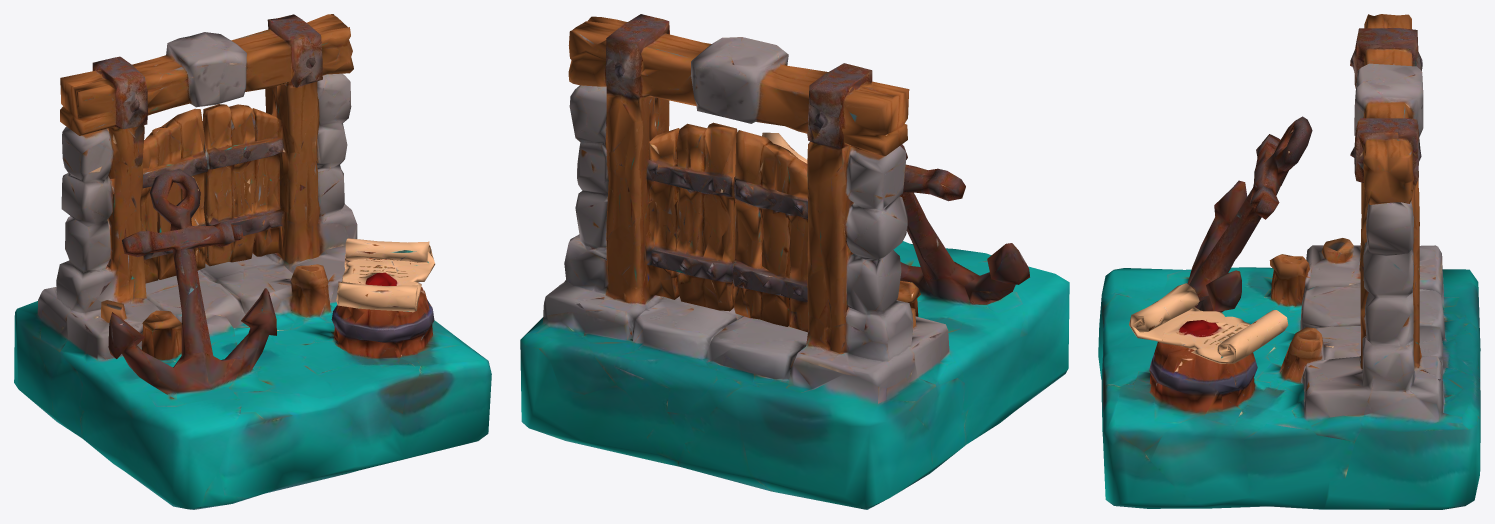
The model's file is m_port.glb.
3 renders of one model, left to right at view 1: azimuth 30°, elevation 25°; view 2: azimuth 150°, elevation 25°; view 3: azimuth 270°, elevation 25°, orthographic. The views are drawn at different scales.
Bounding box in the file's own units: 0.9982 × 0.972 × 0.9448.
Materials: 1 (1 with a texture image).
